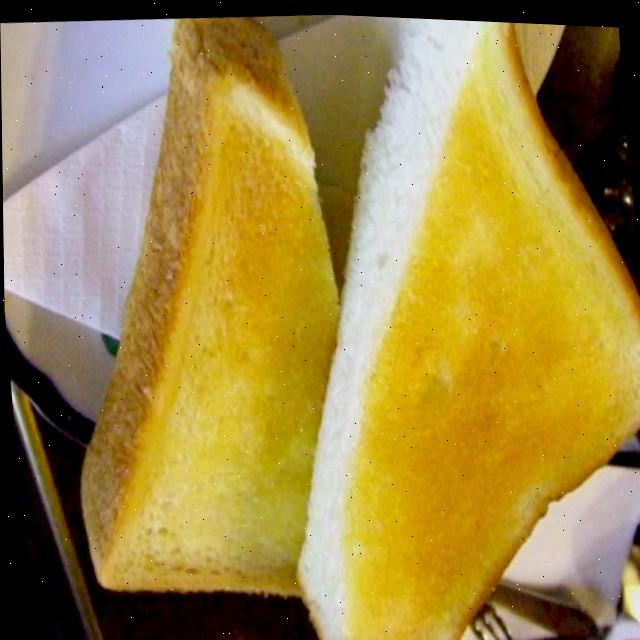面包点心: (18, 1, 640, 640)
